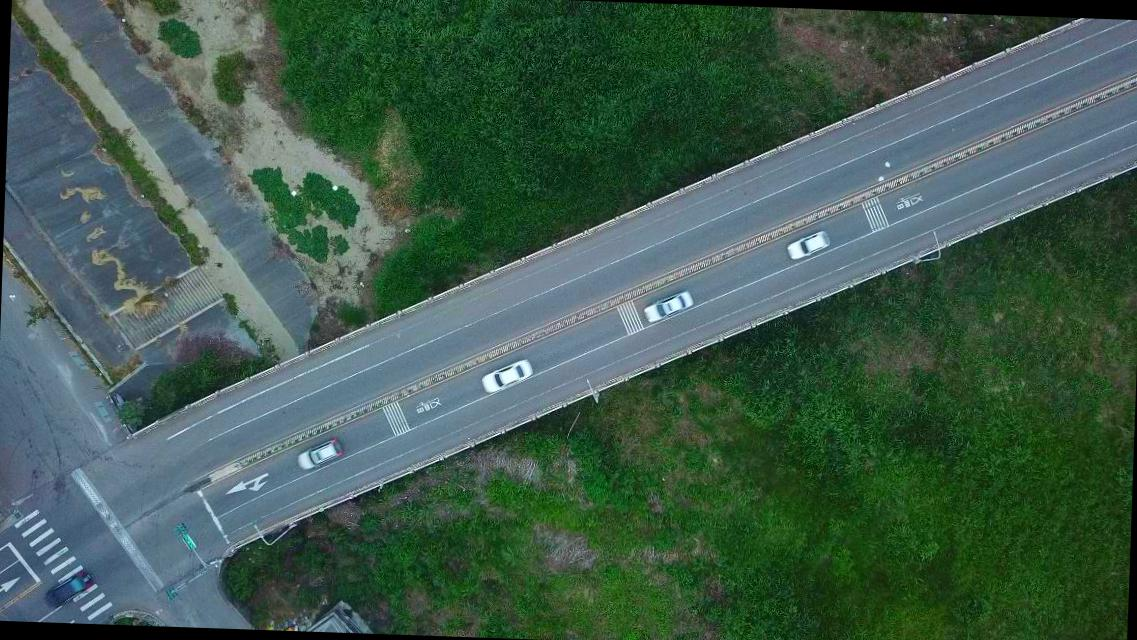vehicle: (41, 568, 92, 612), (482, 356, 532, 398), (642, 288, 694, 326), (784, 228, 831, 264), (296, 438, 344, 472)
